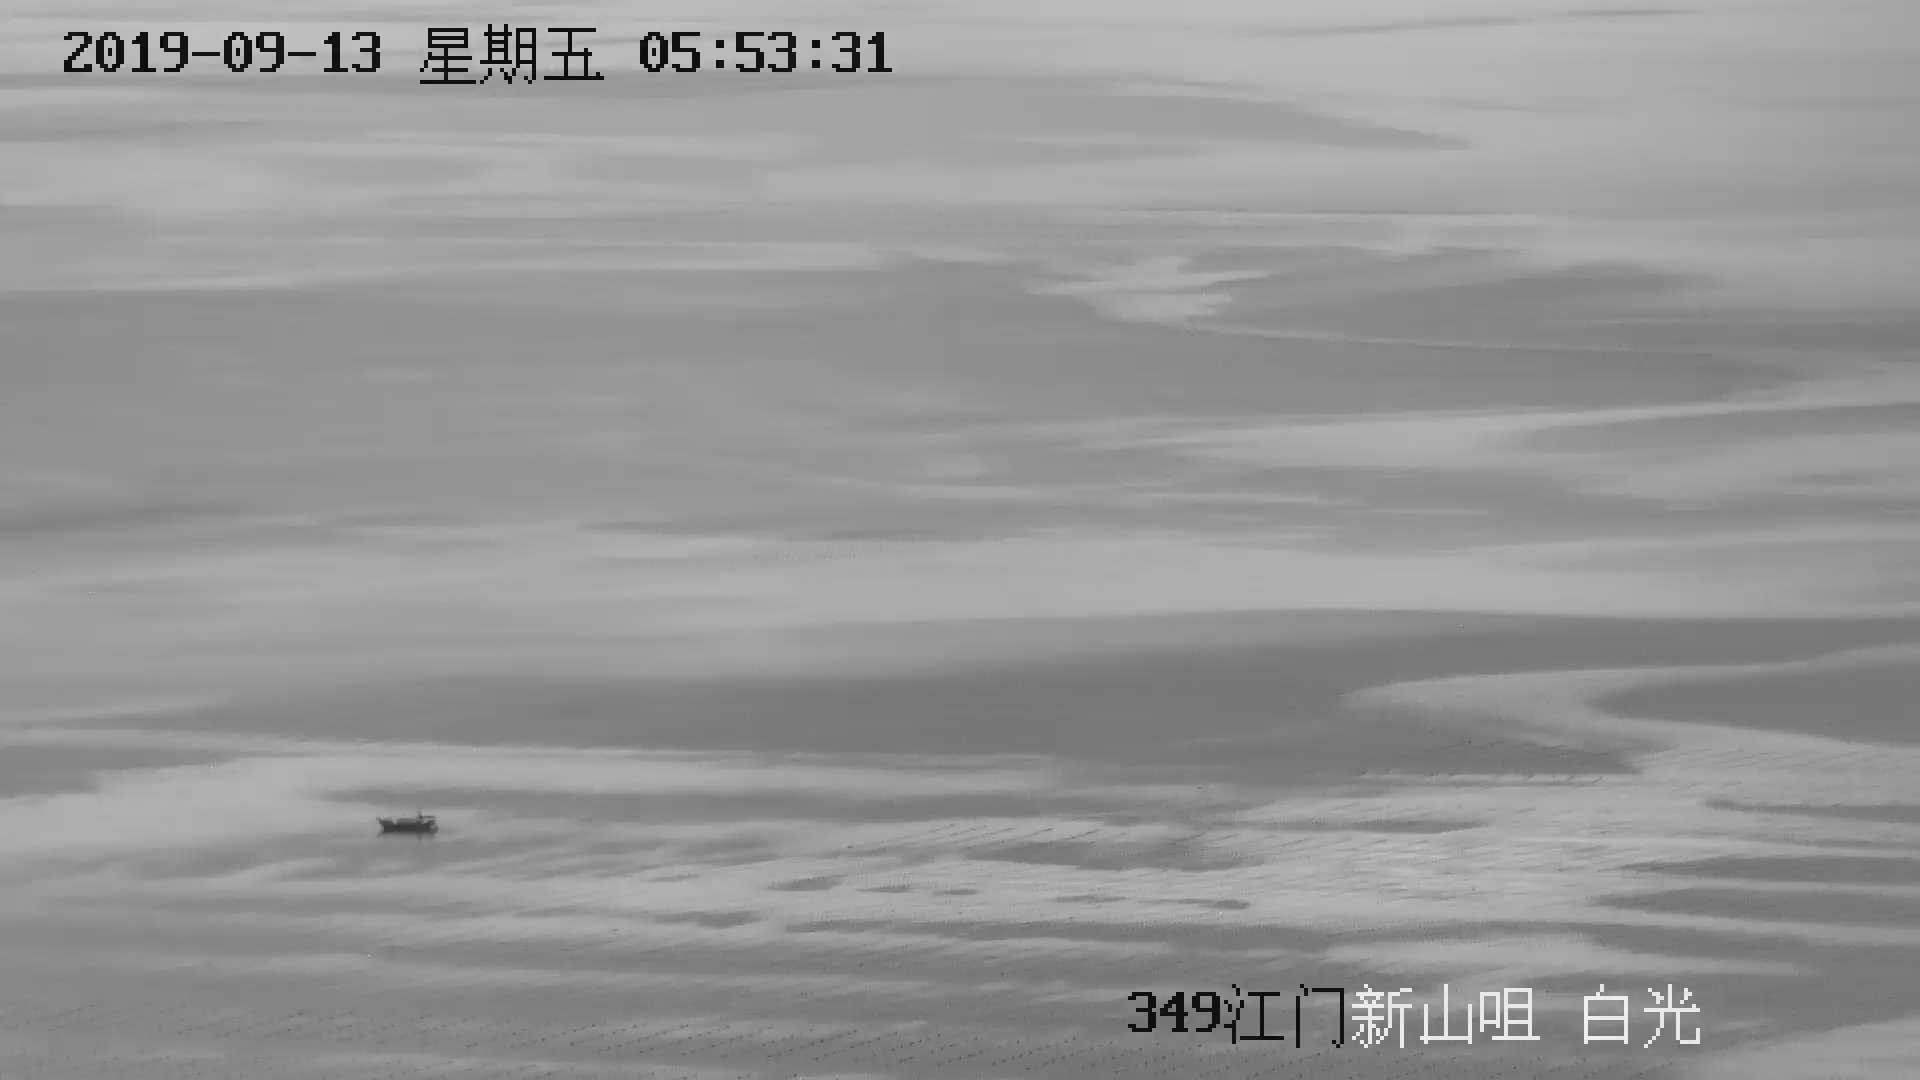ship: (375, 814, 438, 836)
